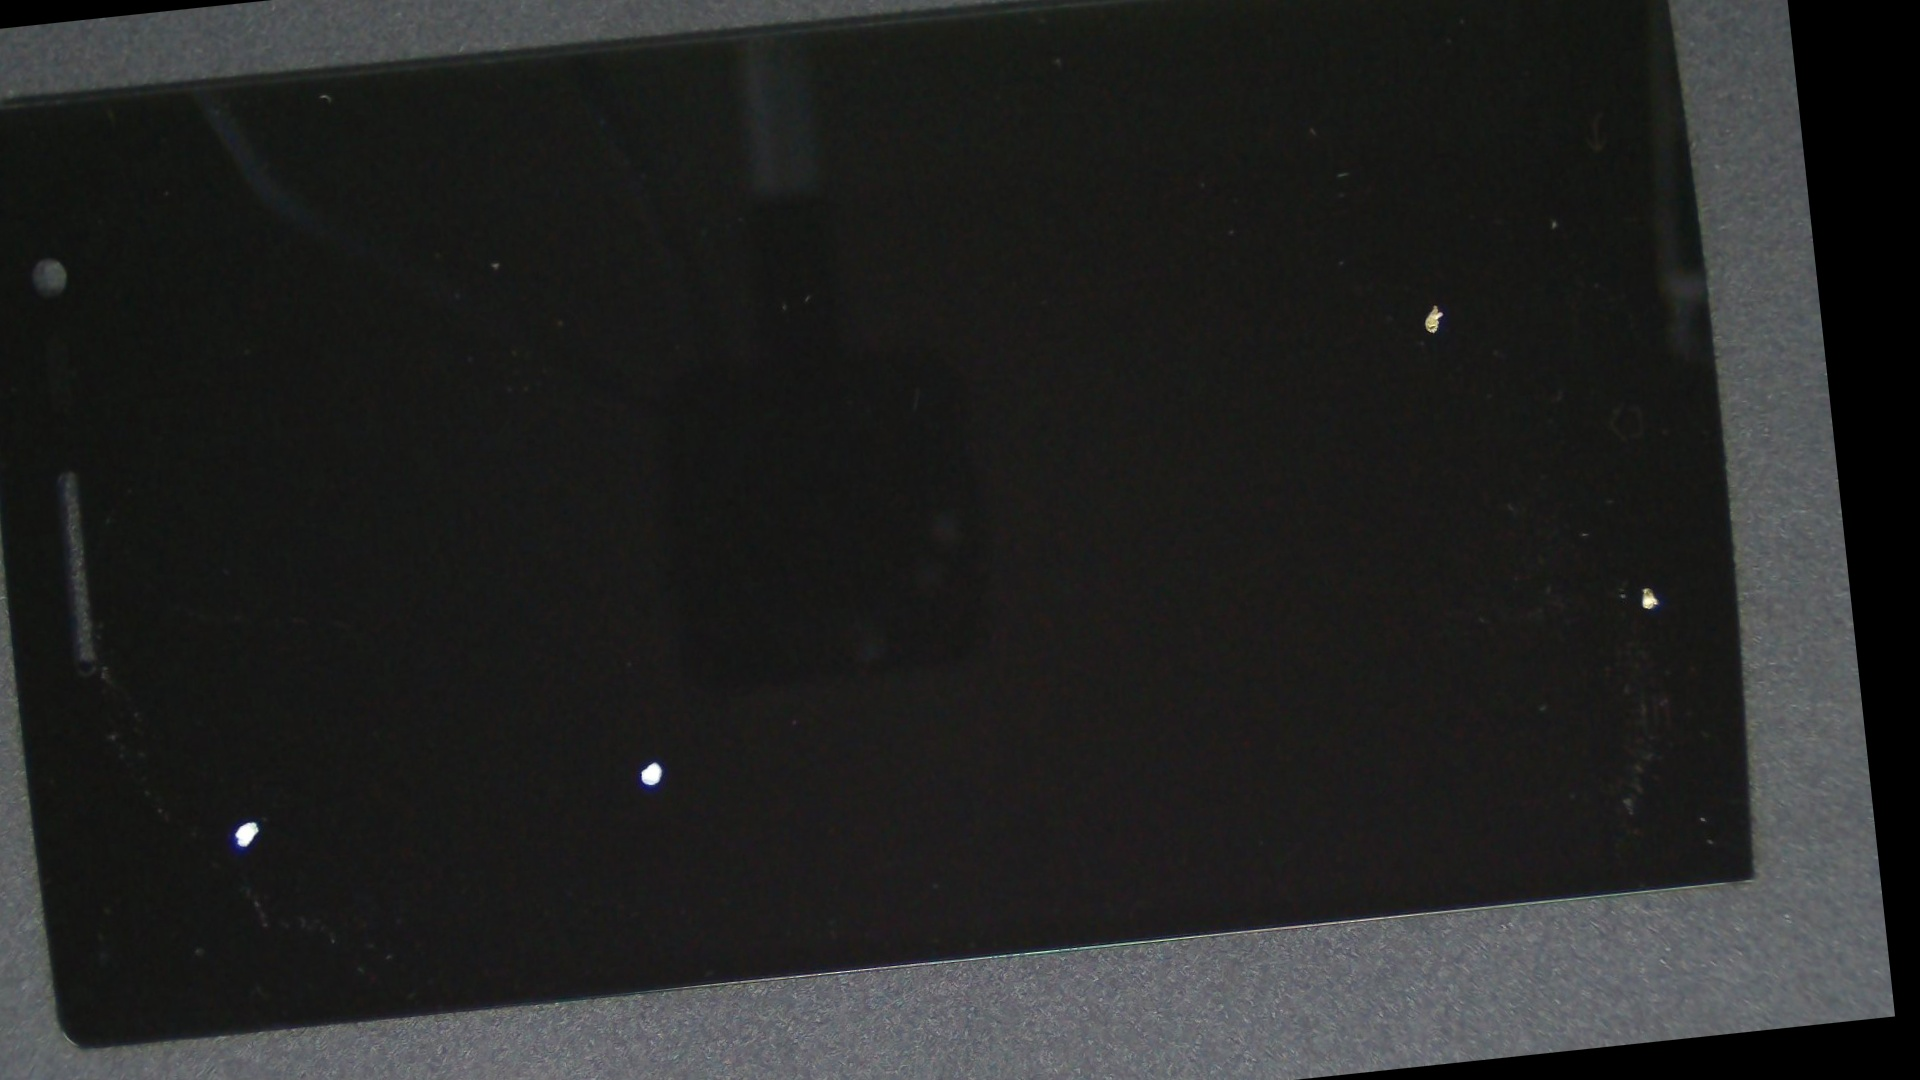oil: (760, 203, 1886, 1038), (657, 51, 1838, 596), (266, 327, 1035, 1080), (63, 401, 426, 1080)
